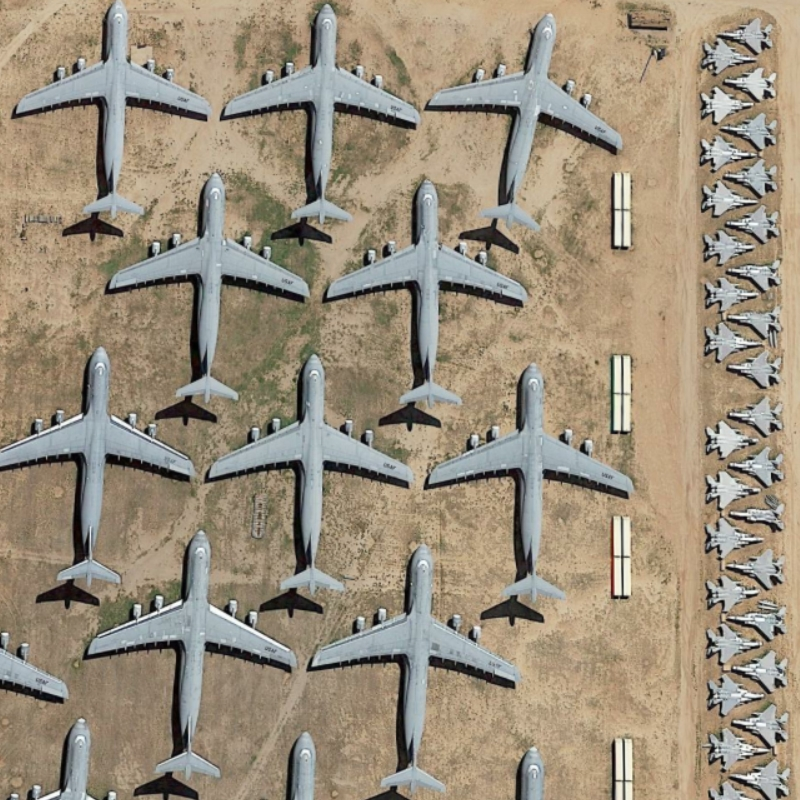A13: (715, 13, 780, 59), (701, 319, 766, 364), (700, 621, 766, 665), (704, 727, 771, 770), (705, 672, 766, 719), (732, 701, 793, 748), (732, 649, 793, 695), (726, 546, 787, 591), (701, 515, 766, 557), (727, 393, 786, 438), (730, 759, 794, 800), (703, 468, 764, 510), (704, 570, 759, 616), (729, 446, 787, 489), (704, 418, 759, 462), (726, 349, 785, 390), (720, 113, 782, 152), (697, 133, 757, 173), (699, 178, 759, 218), (700, 226, 757, 268), (724, 206, 784, 245), (700, 37, 757, 78), (696, 84, 755, 123), (724, 159, 784, 197), (702, 276, 761, 314), (723, 66, 779, 105)
A4: (301, 543, 527, 794), (76, 526, 299, 778), (423, 360, 646, 609), (207, 352, 416, 597), (107, 168, 315, 410), (323, 178, 533, 413), (4, 344, 200, 594), (426, 11, 640, 239), (10, 1, 215, 231), (224, 5, 424, 229)
